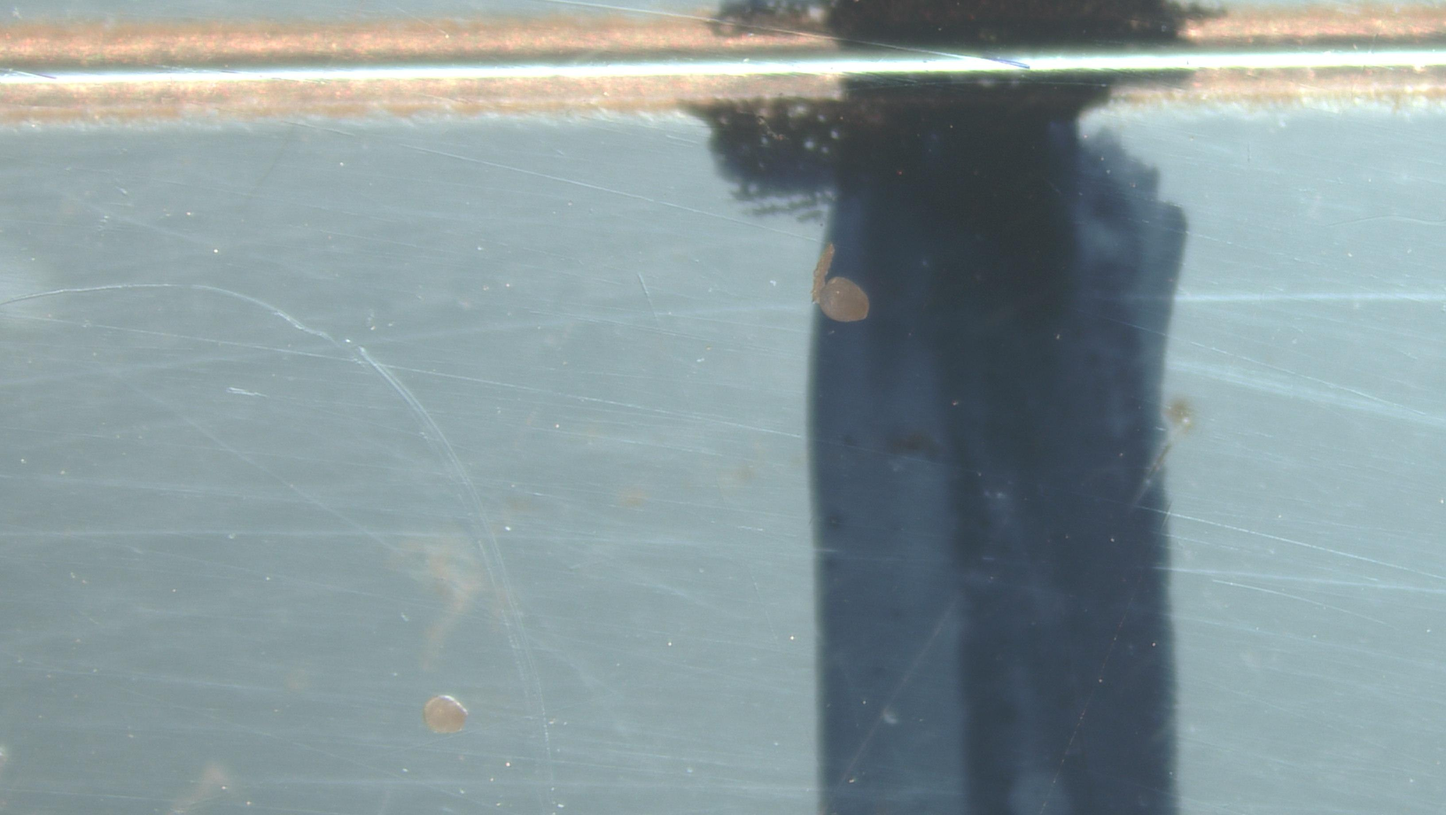live: (818, 278, 870, 322), (423, 695, 468, 734)
